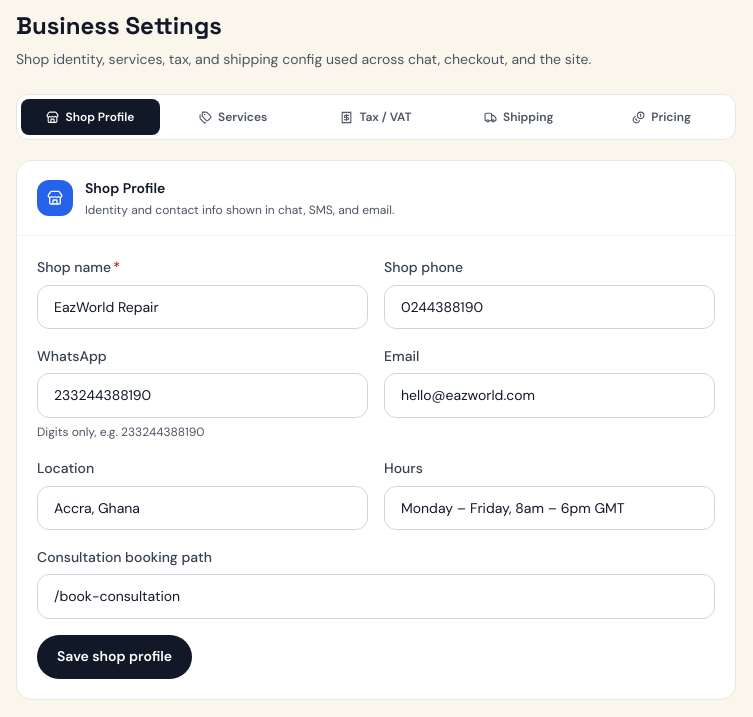
it: BusinessSettingsPage (T14) › mounts only the active tab's section
This screenshot has width=753, height=717.
Expected: the field showing "EazWorld Repair" is shown, 37,285 -> 368,329
Expected: the field showing "Web Design" is not shown
What coordinates should you click on to do the following:
click the button "Services"
I would click on:
 (233, 117)
Its box is 164,99 -> 303,135.
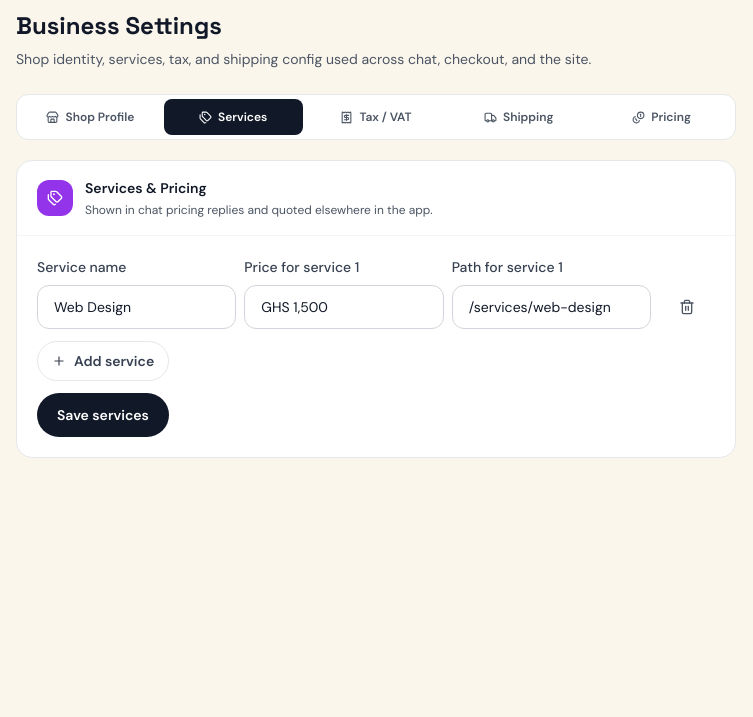
Expected: the field showing "EazWorld Repair" is not shown
Now the field showing "Web Design" is shown, box 37,285 -> 236,329
